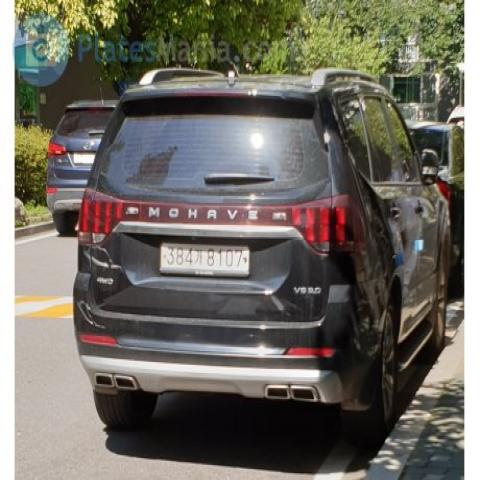LP: (155, 238, 257, 281)
